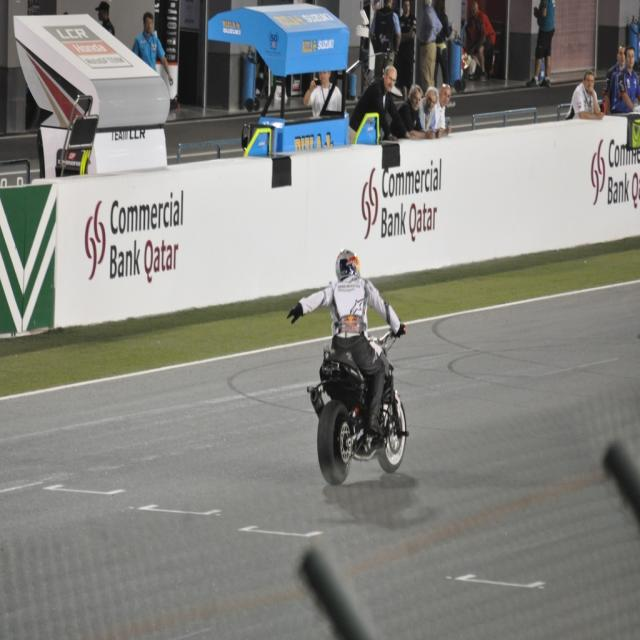Motorbikes: (308, 251, 411, 495)
